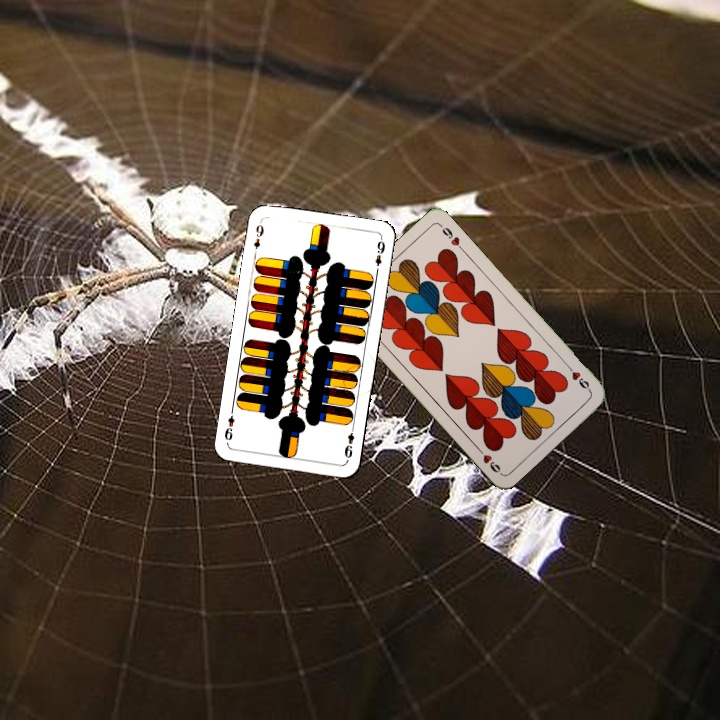E9: (340, 422, 357, 460), (250, 218, 266, 258)
H9: (562, 361, 593, 394)
